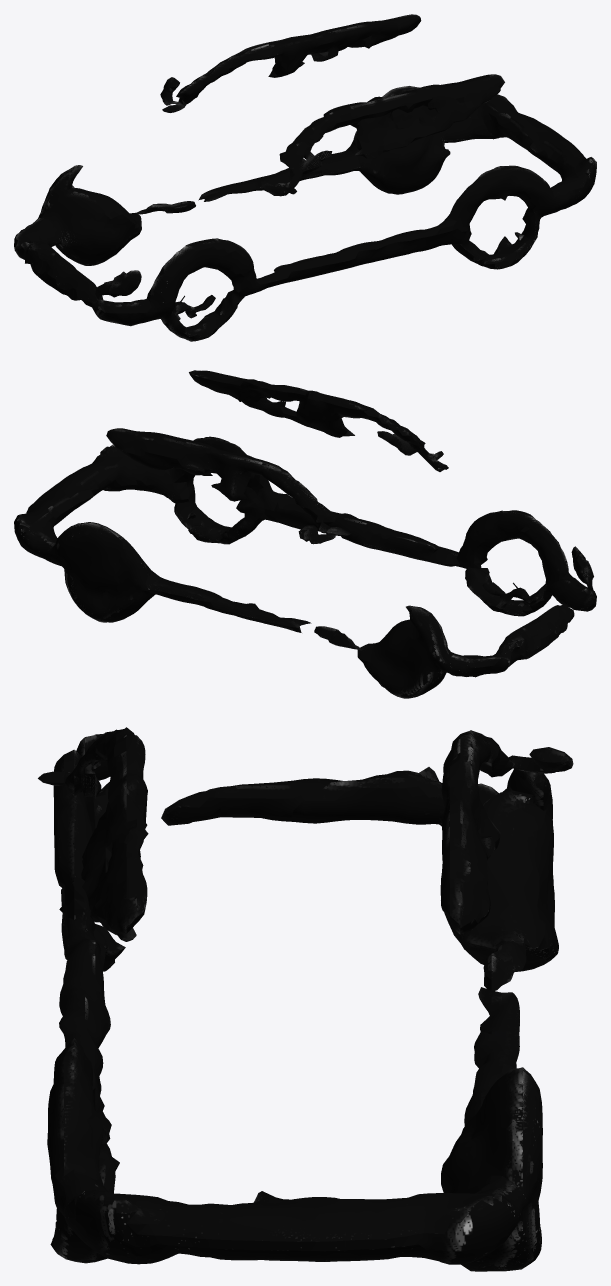
File: image2_mesh.obj
3 renders of one model, top to bottom at view 1: azimuth 30°, elevation 25°; view 2: azimuth 150°, elevation 25°; view 3: azimuth 270°, elevation 25°, orthographic. The views are drawn at different scales.
Size of the model in its own units: 1.32 by 0.4689 by 0.6053.
Materials: 1 (1 with a texture image).
